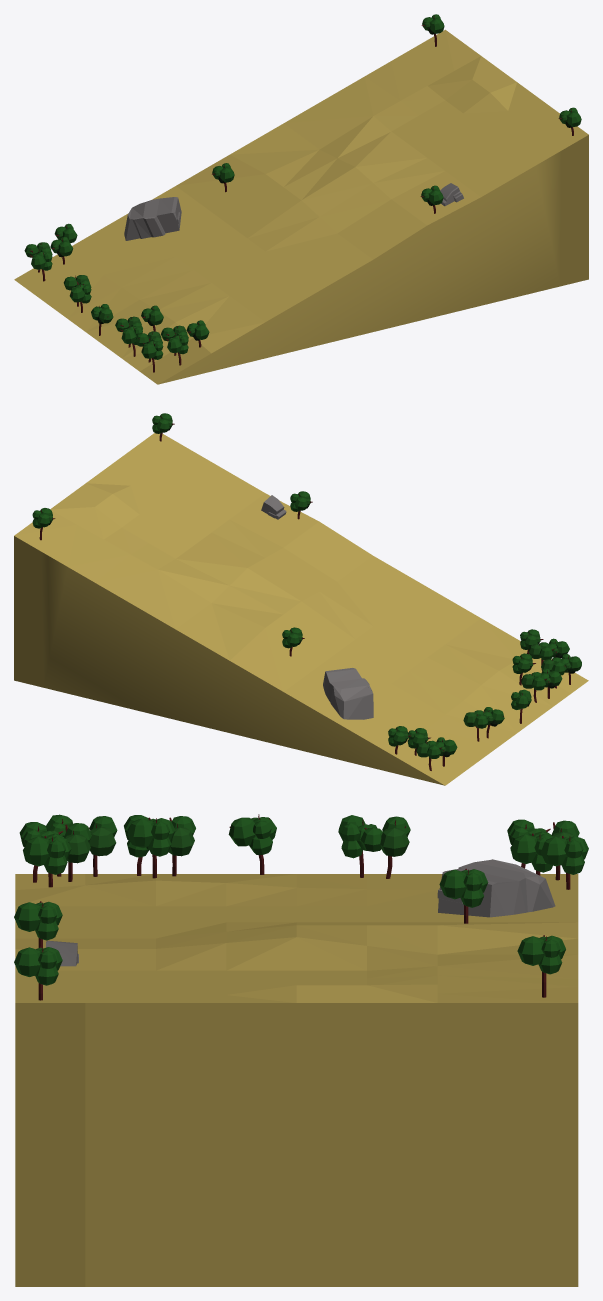
File: slide.FBX
The picture shows the model from 3 angles, top to bottom: view 1: azimuth 30°, elevation 25°; view 2: azimuth 150°, elevation 25°; view 3: azimuth 270°, elevation 25°; orthographic projection. The views are drawn at different scales.
Parts seen in each view (by area): view 1: slide, tree, rock; view 2: slide, tree, rock; view 3: slide, tree, rock.
Boxes of the visible parts, <box> form: slide: <box>14,29,588,384</box>; tree: <box>24,14,581,372</box>; rock: <box>124,183,463,240</box>; slide: <box>14,433,588,785</box>; tree: <box>32,413,581,770</box>; rock: <box>261,495,373,719</box>; slide: <box>15,874,578,1286</box>; tree: <box>14,814,588,1000</box>; rock: <box>46,859,555,966</box>.
Bounding box in the file's own units: 2741 × 1599 × 1020.
